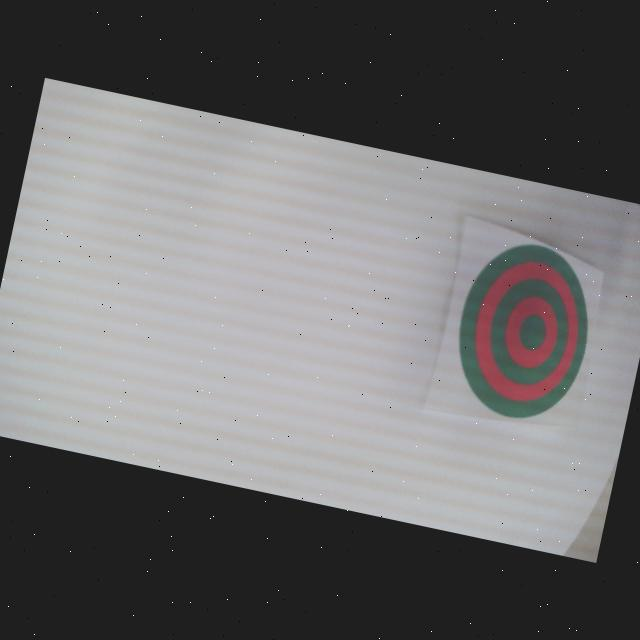COGNITIVE: (441, 231, 606, 430)
